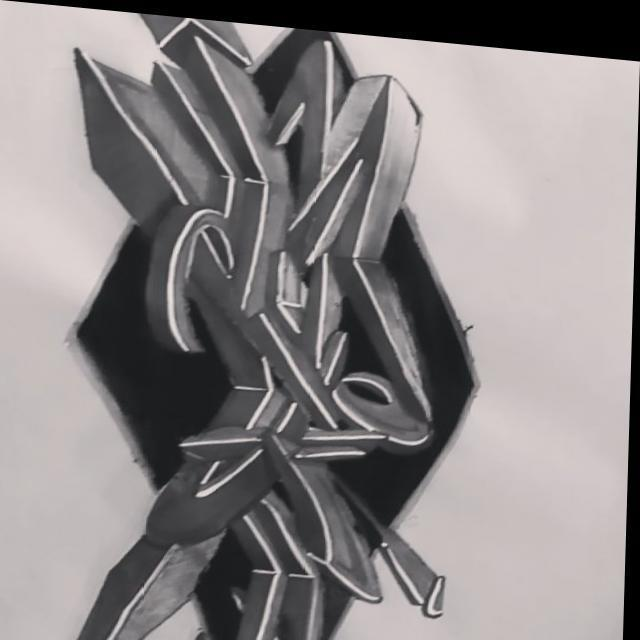nonspitting: (64, 11, 478, 640)
